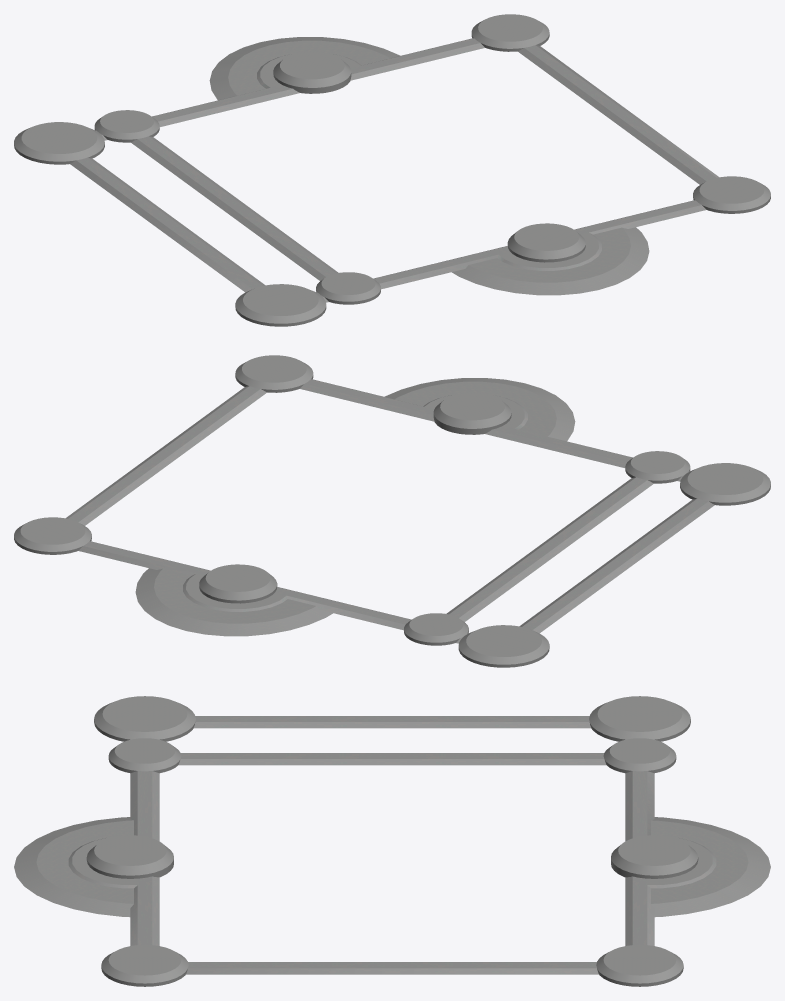
The model's file is try.glb.
3 views of the same model, one above another, from view 1: azimuth 30°, elevation 25°; view 2: azimuth 150°, elevation 25°; view 3: azimuth 270°, elevation 25° (orthographic). The views are drawn at different scales.
Parts seen in each view (by area): view 1: frame_002; view 2: frame_002; view 3: frame_002.
Boxes of the visible parts, box(x1,y1,x2,y2) form: frame_002: box(14, 14, 770, 326); frame_002: box(14, 355, 770, 667); frame_002: box(14, 696, 770, 986).
Size of the model in its own units: 37.8 by 1.02 by 42.27.
1 material, 1 textured.
